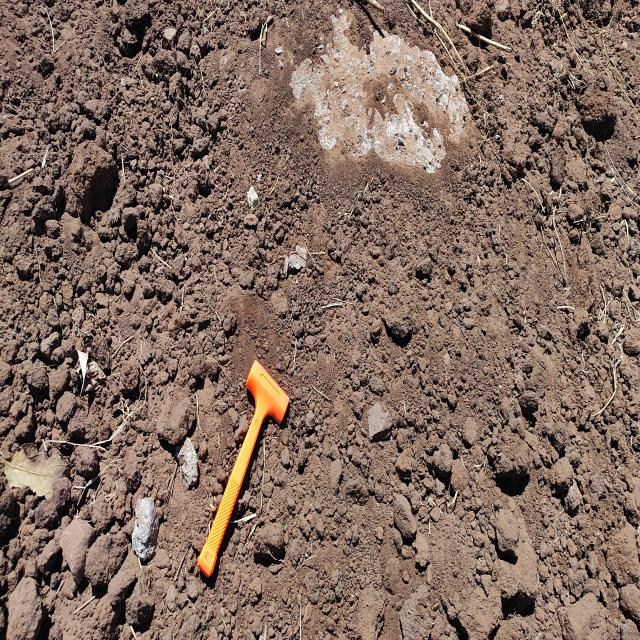Orange_hammer: (197, 358, 290, 578)
